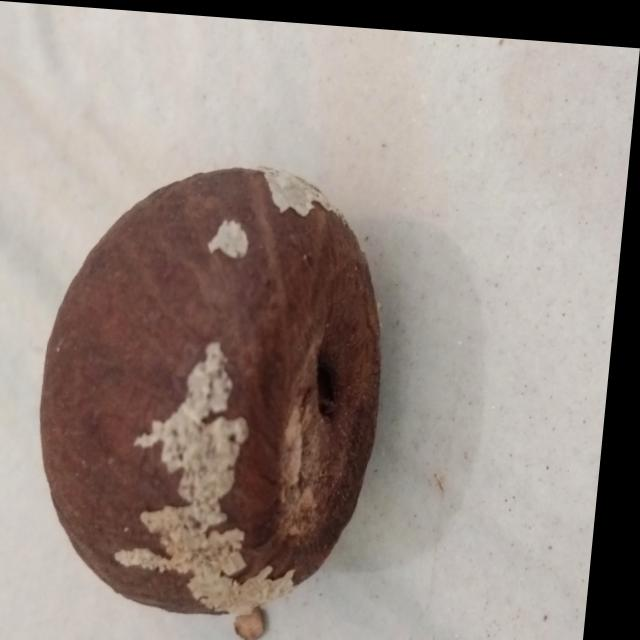karigot: (16, 94, 447, 640)
